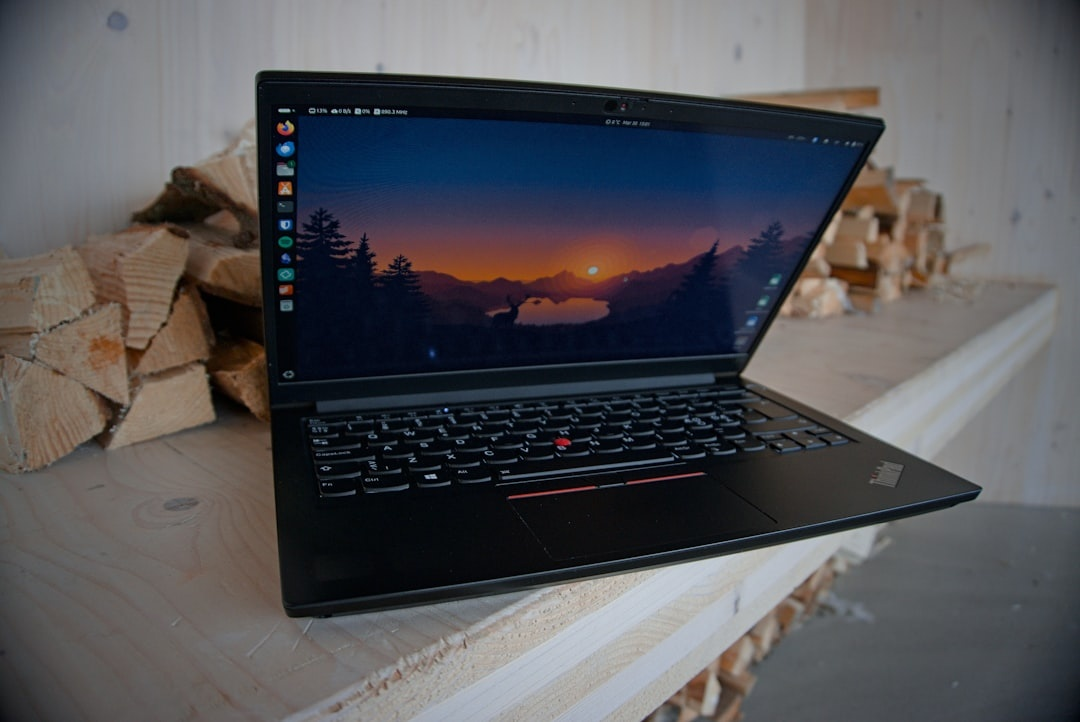laptop: (237, 59, 989, 638)
